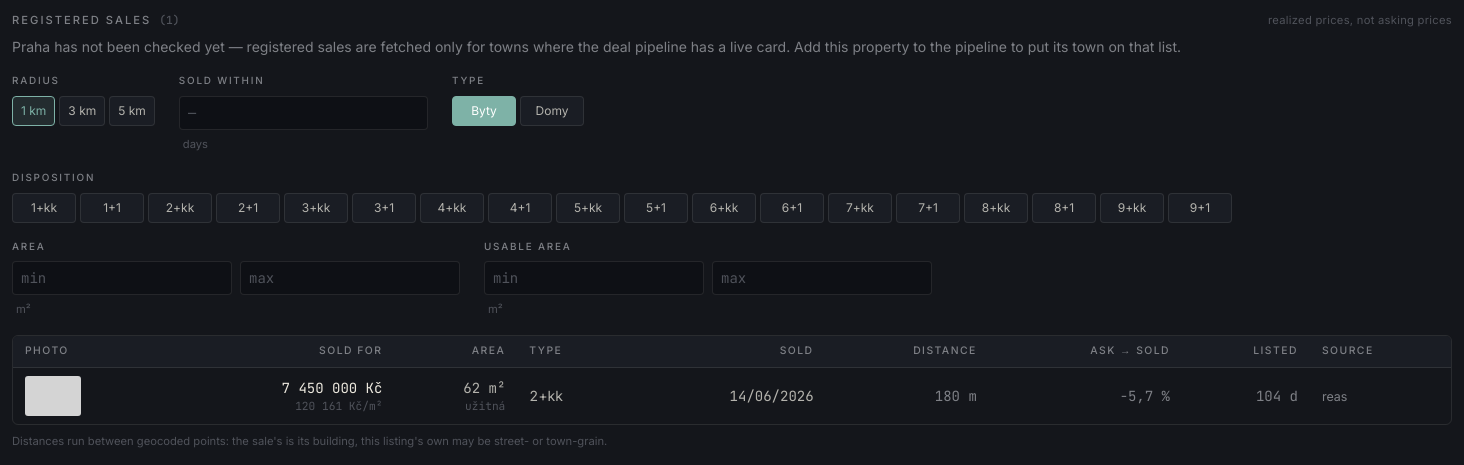
Test: <SoldCompsBlock> coverage states › keeps the panel after a filter narrows the cohort to nothing
expect the table is shown: met, box x1=13 y1=336 x2=1451 y2=424
Type "1" into the field named "Sold within" at (303, 113), box x1=179 y1=96 x2=428 y2=130
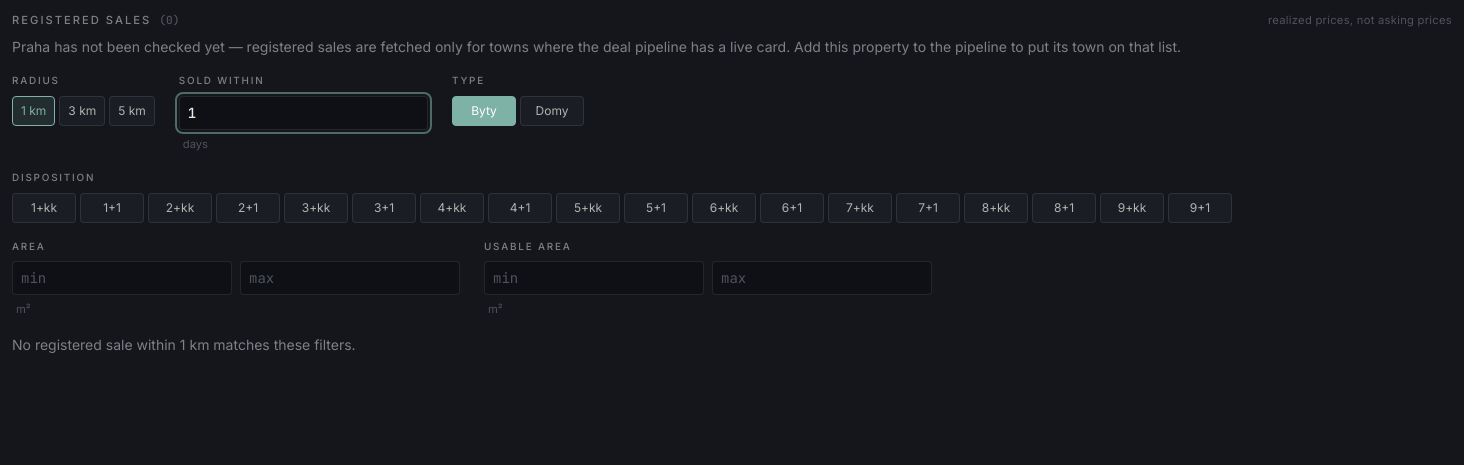
expect the text "No registered sale within 1 km matches these filters." is shown: met, box x1=12 y1=336 x2=356 y2=353
